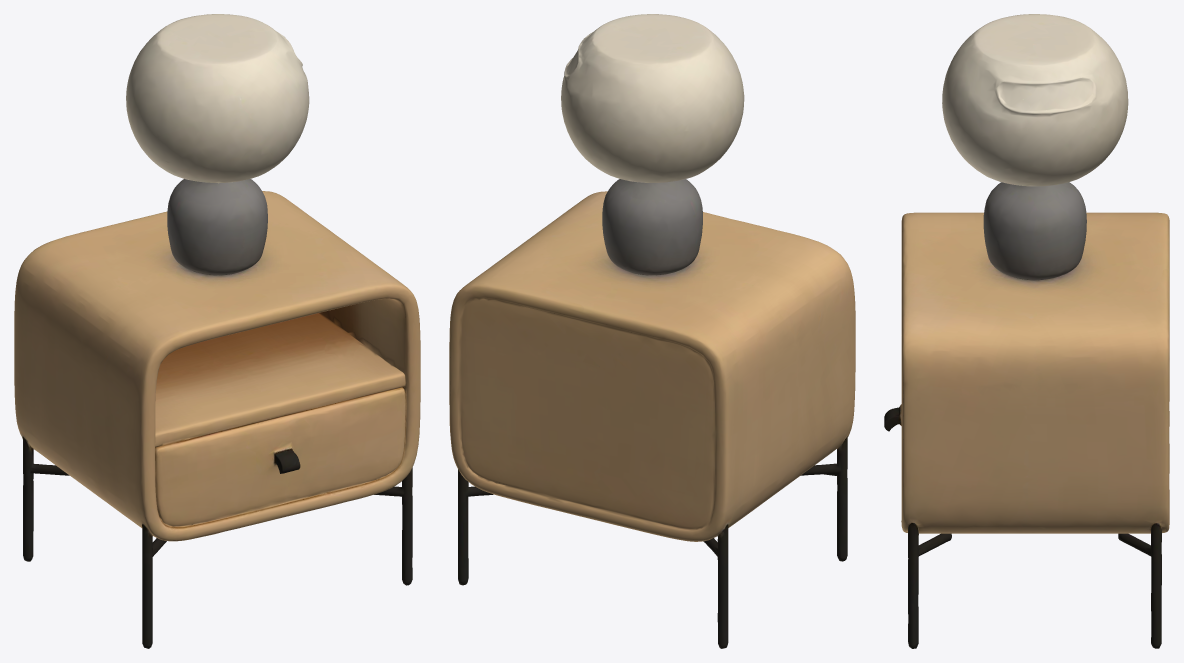
The model's file is 27-criado-mudo.glb.
The picture shows the model from 3 angles, left to right: view 1: azimuth 30°, elevation 25°; view 2: azimuth 150°, elevation 25°; view 3: azimuth 270°, elevation 25°; orthographic projection.
Parts seen in each view (by area): view 1: tripo_node_16cc4d99-63eb-4c55-9133-e7e3fa2c0fd3; view 2: tripo_node_16cc4d99-63eb-4c55-9133-e7e3fa2c0fd3; view 3: tripo_node_16cc4d99-63eb-4c55-9133-e7e3fa2c0fd3.
Boxes of the visible parts, x1,y1,x2,y2 form: tripo_node_16cc4d99-63eb-4c55-9133-e7e3fa2c0fd3: (14,14,420,648); tripo_node_16cc4d99-63eb-4c55-9133-e7e3fa2c0fd3: (449,14,855,648); tripo_node_16cc4d99-63eb-4c55-9133-e7e3fa2c0fd3: (884,14,1169,648).
Size of the model in its own units: 0.55 by 1 by 0.4753.
1 material, 1 textured.
